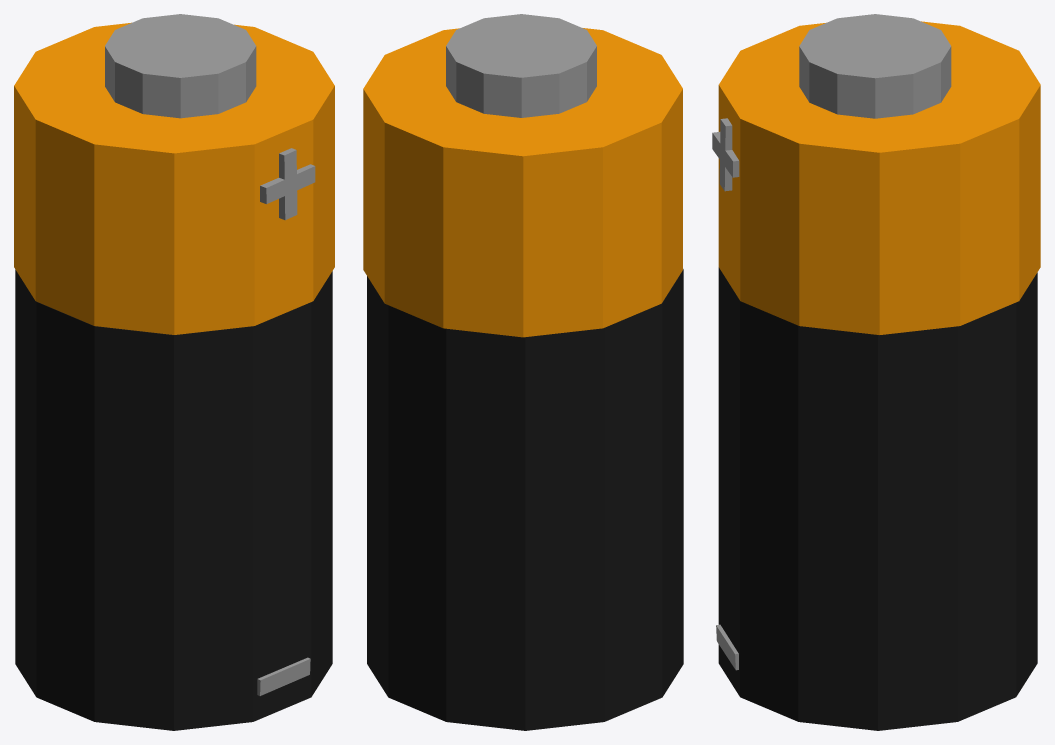
Rendered from baterai_zeoxo.glb.
3 views of the same model, side by side, from view 1: azimuth 30°, elevation 25°; view 2: azimuth 150°, elevation 25°; view 3: azimuth 270°, elevation 25° (orthographic).
Visible parts, largest first — view 1: group1182958969, group1735691143, group972917692; view 2: group1182958969; view 3: group1182958969, group1735691143.
Part boxes in pixels (bbox=[...]): group1182958969: bbox=[14, 14, 334, 730]; group1735691143: bbox=[260, 148, 315, 220]; group972917692: bbox=[257, 657, 310, 695]; group1182958969: bbox=[363, 14, 683, 730]; group1182958969: bbox=[718, 14, 1040, 730]; group1735691143: bbox=[712, 118, 739, 191].
Bounding box in the file's own units: 0.36 × 0.775 × 0.3673.
